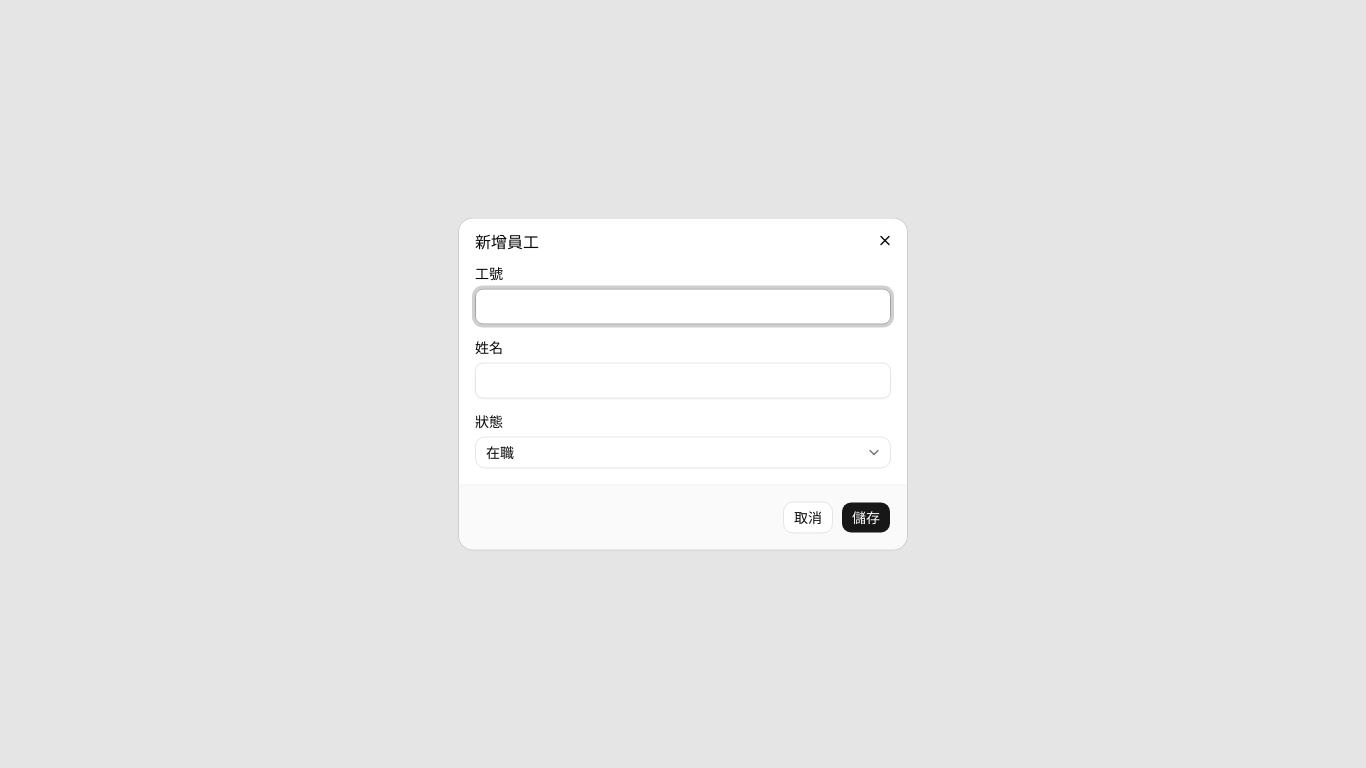
Test case: EmployeeForm 員工表單 › 狀態下拉展開後可看到「在職／離職」選項
The image size is (1366, 768).
Check: the dialog is shown, box left=459, top=218, right=907, bottom=550
Click the dropdown named "狀態".
click(500, 452)  # box left=475, top=436, right=891, bottom=468
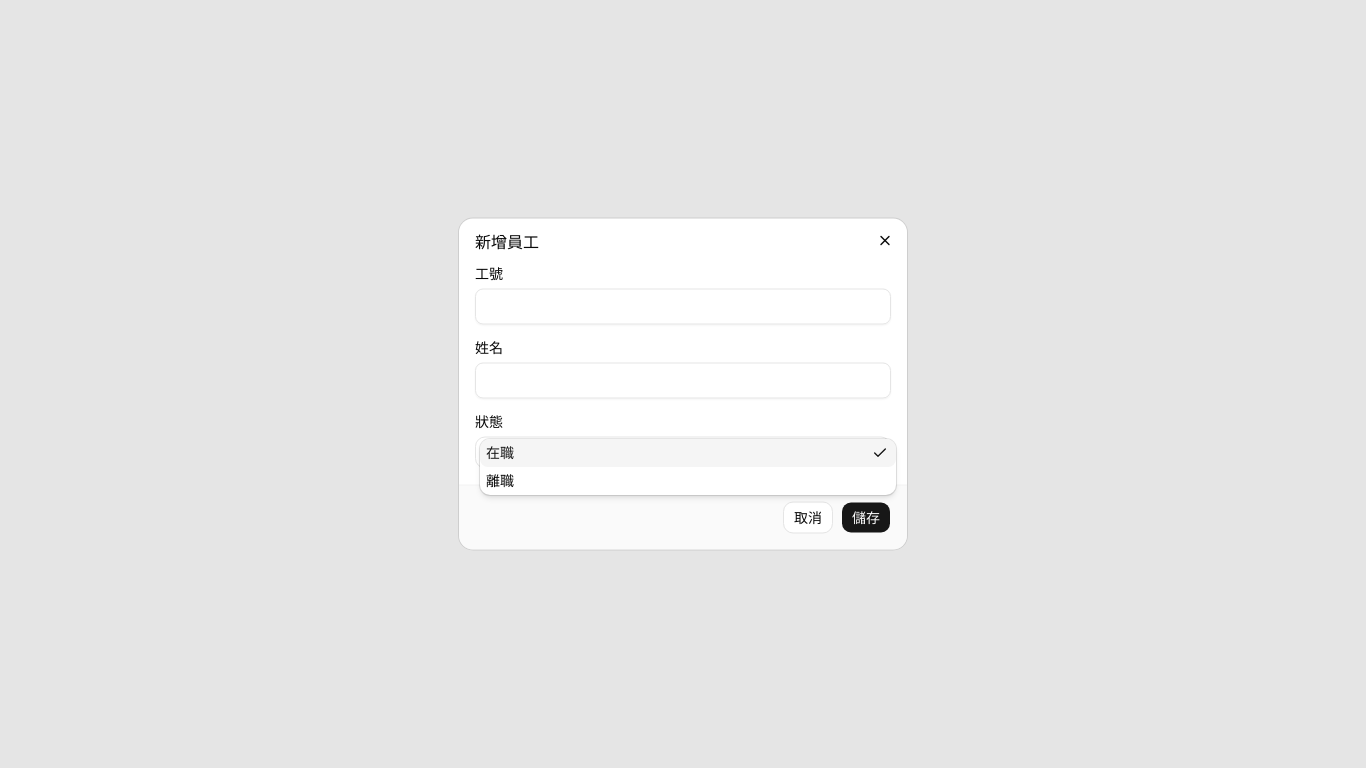
Check: the text "在職" below "狀態" is shown, box left=486, top=444, right=514, bottom=460
Check: the text "離職" is shown, box left=486, top=472, right=514, bottom=488
